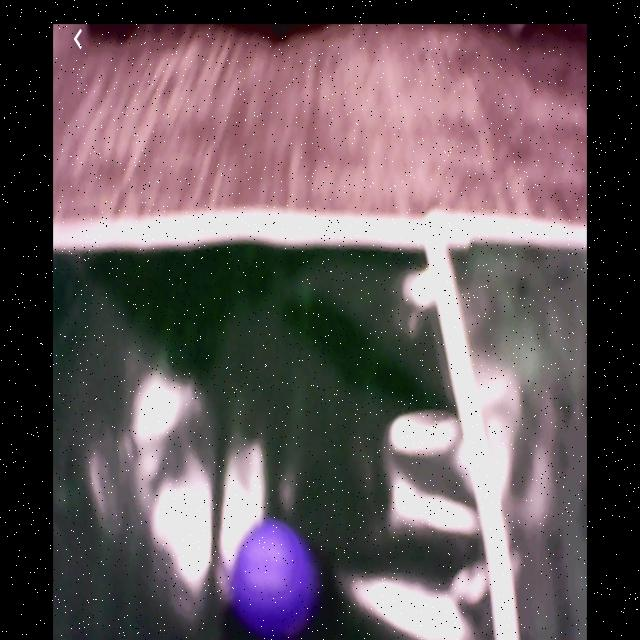ball: (233, 520, 312, 633)
